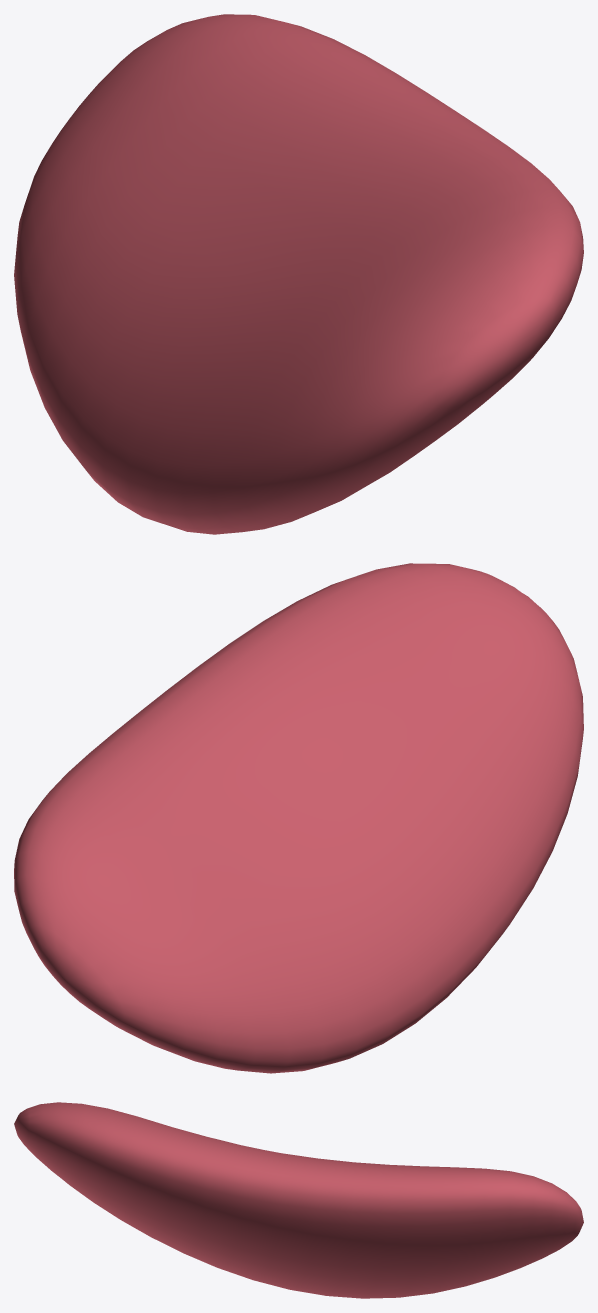
3 views of the same model, one above another, from view 1: azimuth 30°, elevation 25°; view 2: azimuth 150°, elevation 25°; view 3: azimuth 270°, elevation 25° (orthographic). The views are drawn at different scales.
Parts seen in each view (by area): view 1: 右侧肱二头肌桡骨囊; view 2: 右侧肱二头肌桡骨囊; view 3: 右侧肱二头肌桡骨囊.
Part boxes in pixels (x1=…): 右侧肱二头肌桡骨囊: x1=14, y1=14, x2=583, y2=534; 右侧肱二头肌桡骨囊: x1=14, y1=563, x2=583, y2=1073; 右侧肱二头肌桡骨囊: x1=14, y1=1102, x2=583, y2=1298.
Bounding box in the file's own units: 0.0102 × 0.00969 × 0.0225.
